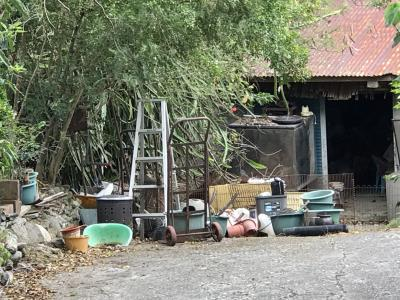bowl: (83, 221, 133, 251), (300, 188, 335, 204), (64, 234, 89, 252), (314, 214, 335, 226)
bucket: (95, 195, 135, 230)
